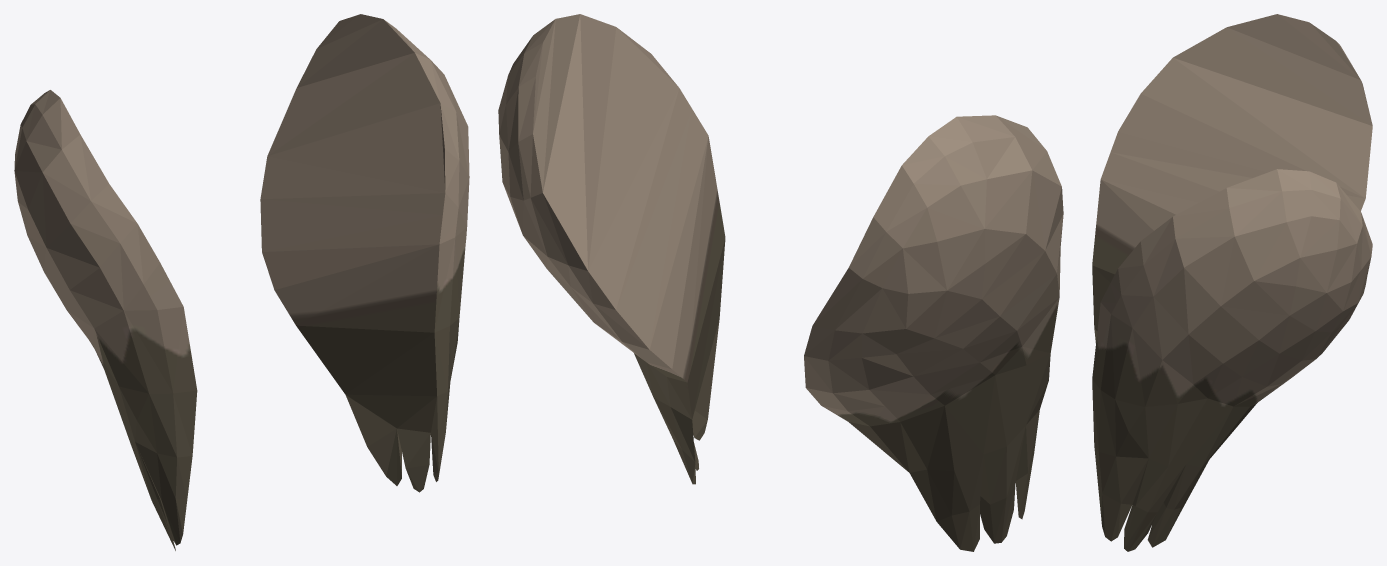
Rendered from BR_Starly-Shiny03.obj.
3 renders of one model, left to right at view 1: azimuth 30°, elevation 25°; view 2: azimuth 150°, elevation 25°; view 3: azimuth 270°, elevation 25°, orthographic. The views are drawn at different scales.
Parts seen in each view (by area): view 1: mukkuru; view 2: mukkuru; view 3: mukkuru.
Part boxes in pixels (x1=…): mukkuru: x1=14, y1=14, x2=469, y2=550; mukkuru: x1=498, y1=14, x2=1063, y2=551; mukkuru: x1=1092, y1=14, x2=1372, y2=551.
Bounding box in the file's own units: 2.24 × 2.13 × 1.35.
Materials: 1 (1 with a texture image).
